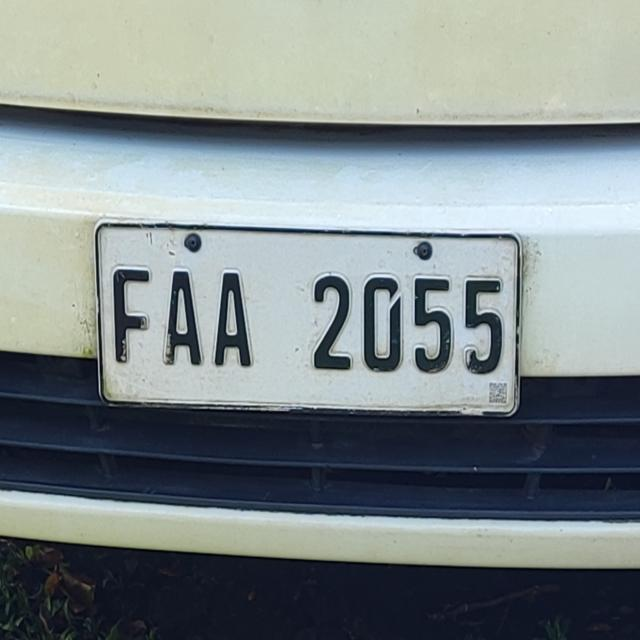plate: (89, 213, 528, 427)
